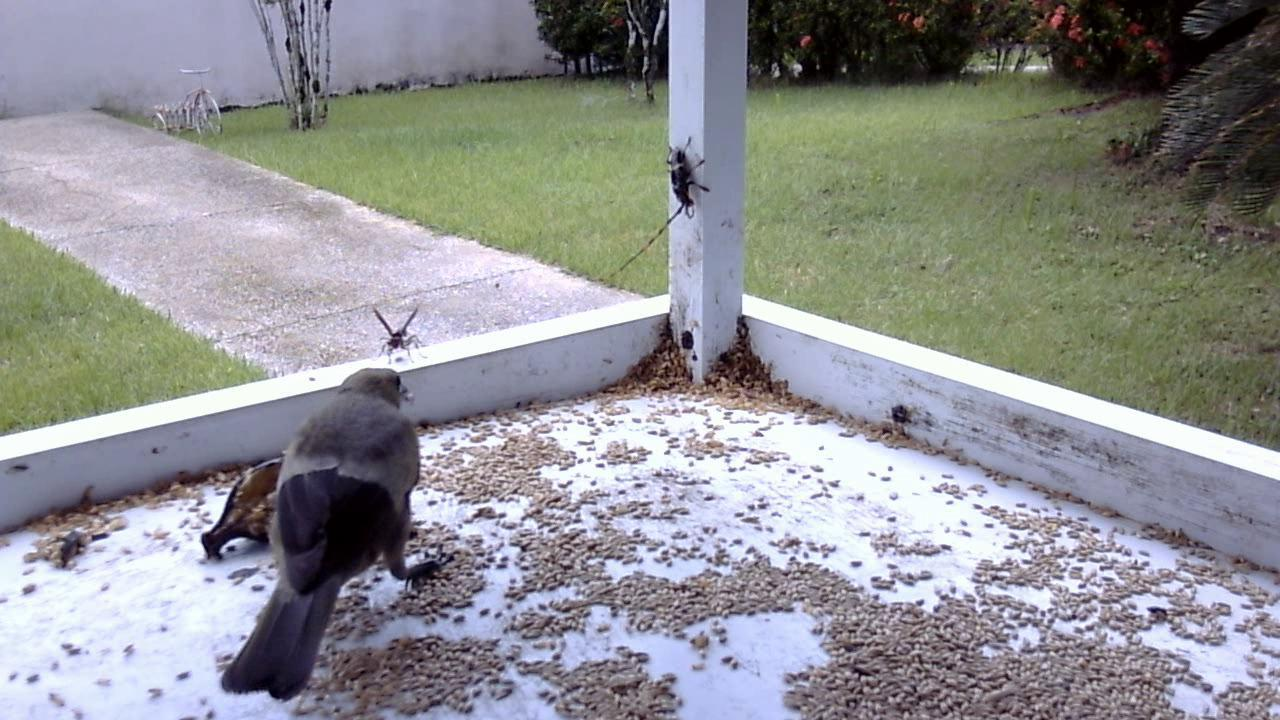sanhaco_do_coqueiro: (209, 352, 460, 704)
